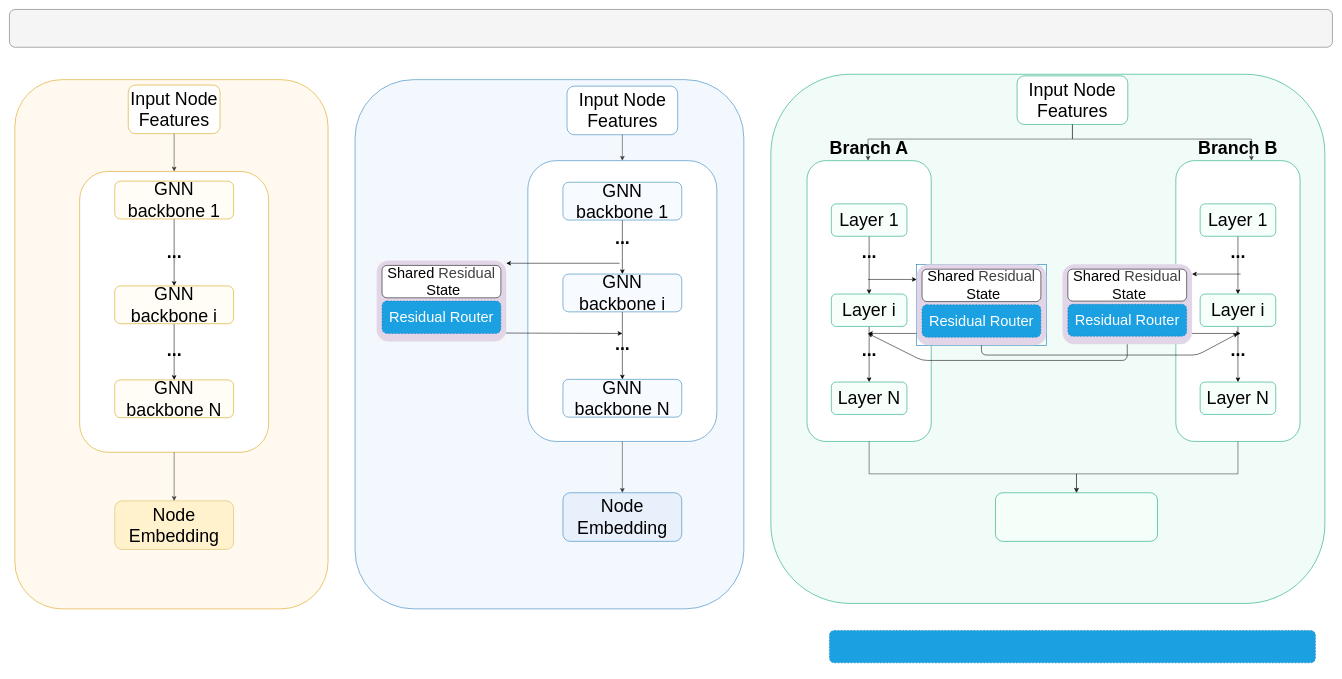
This 1342x679 diagram has some shape labels left out. The shapes that lost their labels are listed below. From the top down, each one's box as (x1, y1, x2, y2) in pixels, then its label:
(9, 9, 1332, 47): Node-Level CR-GNN Architecture
(14, 79, 328, 609): Basic Plain Node-Level Stack
(355, 79, 744, 609): Residual Node-Level Stack
(770, 74, 1325, 603): Cross-Residual Node-Level Stack
(995, 492, 1157, 541): Branch Fusion Node Embedding
(829, 630, 1315, 663): Fixed Residual; Learnable Residual; Top-k Residual; Sparse Residual
